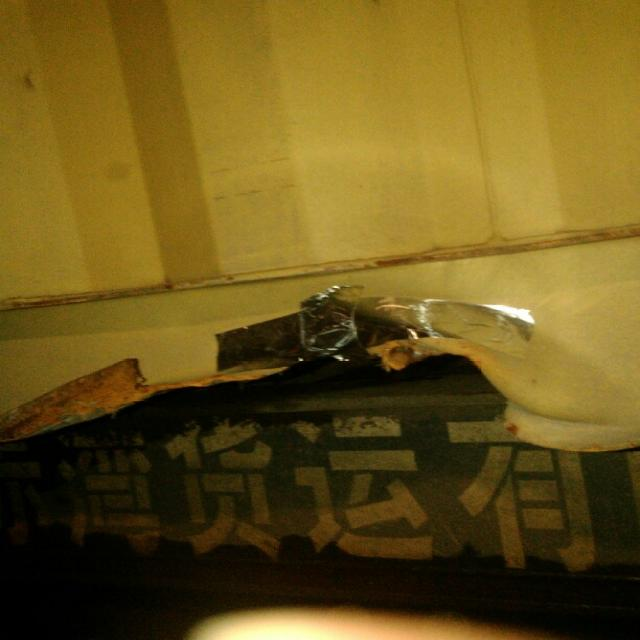dent: (1, 272, 640, 463)
